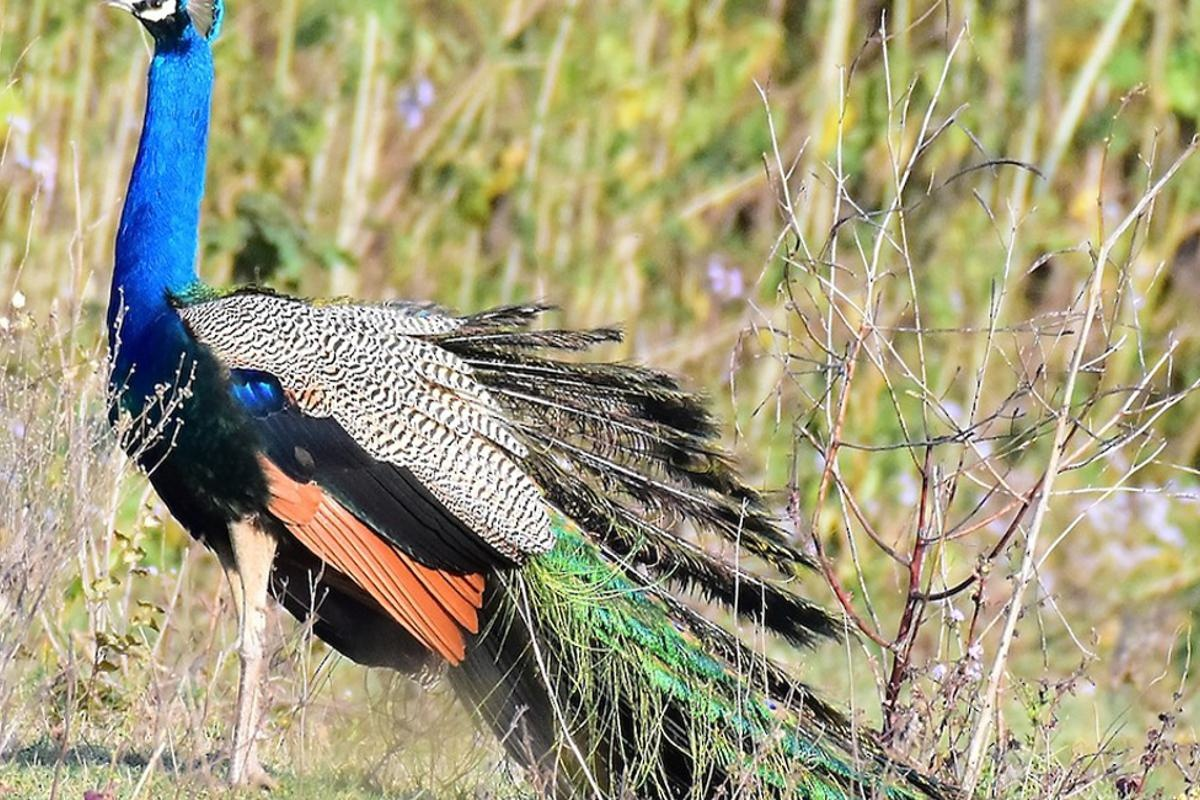peacock: (91, 8, 834, 800)
